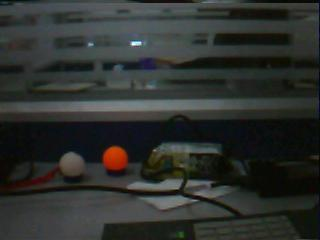oball: (103, 146, 128, 169)
